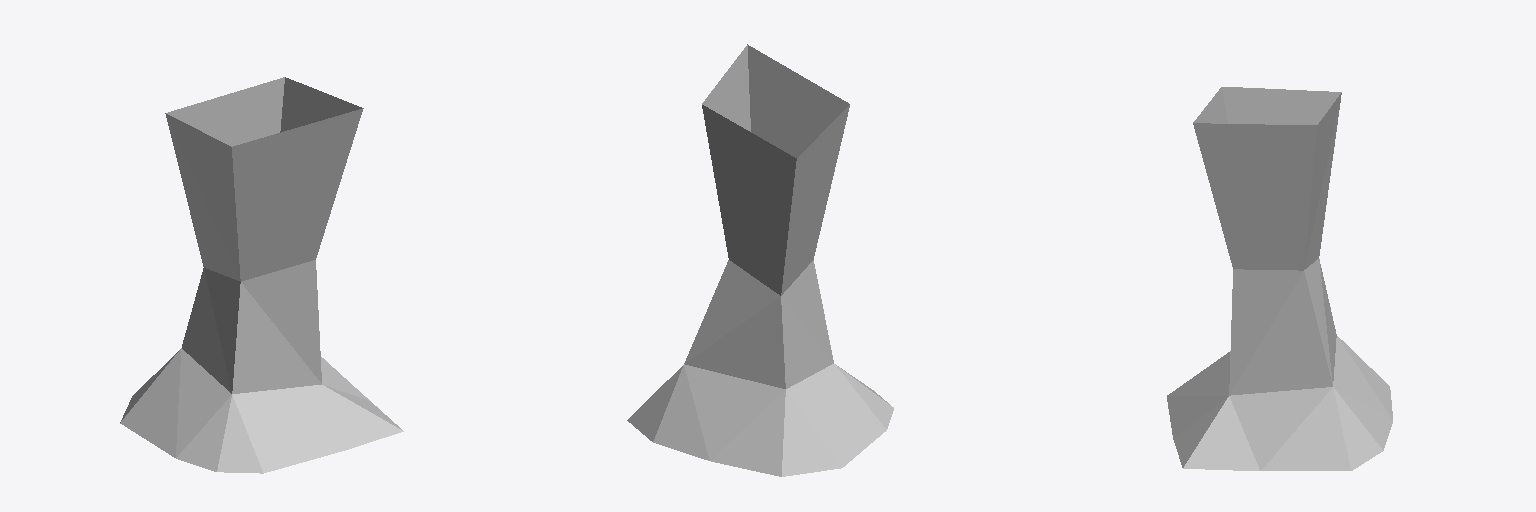
Rendered from st_tree_trunk_2.obj.
The picture shows the model from 3 angles: view 1: azimuth 30°, elevation 25°; view 2: azimuth 150°, elevation 25°; view 3: azimuth 270°, elevation 25°; orthographic projection.
Parts seen in each view (by area): view 1: TreeTrunk2_Plane.002; view 2: TreeTrunk2_Plane.002; view 3: TreeTrunk2_Plane.002.
Boxes of the visible parts, x1,y1,x2,y2 form: TreeTrunk2_Plane.002: [120, 77, 403, 473]; TreeTrunk2_Plane.002: [627, 44, 893, 476]; TreeTrunk2_Plane.002: [1167, 87, 1392, 470].
Bounding box in the file's own units: 0.75 × 1.12 × 0.7.